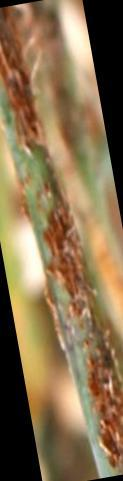Wheat: (3, 42, 123, 473)
